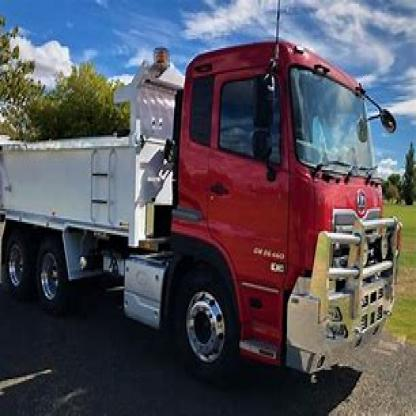dump_truck: (2, 37, 404, 386)
